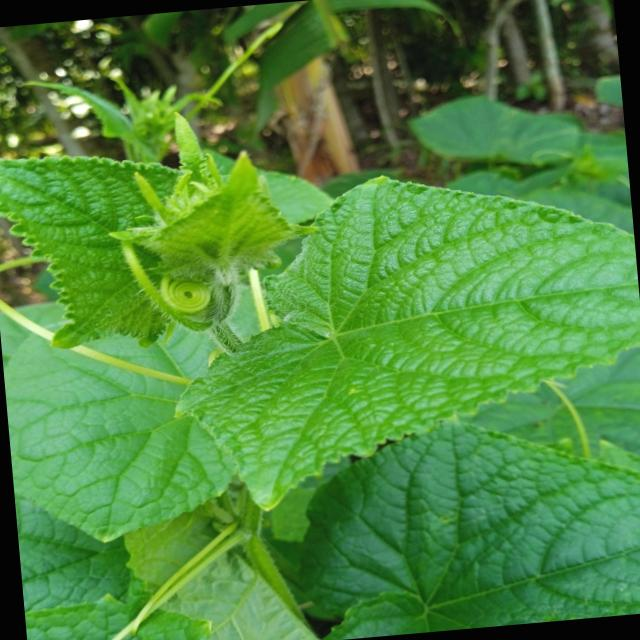cucumber_healthy: (149, 147, 640, 525), (278, 395, 640, 640), (0, 125, 210, 355), (22, 574, 218, 640)
